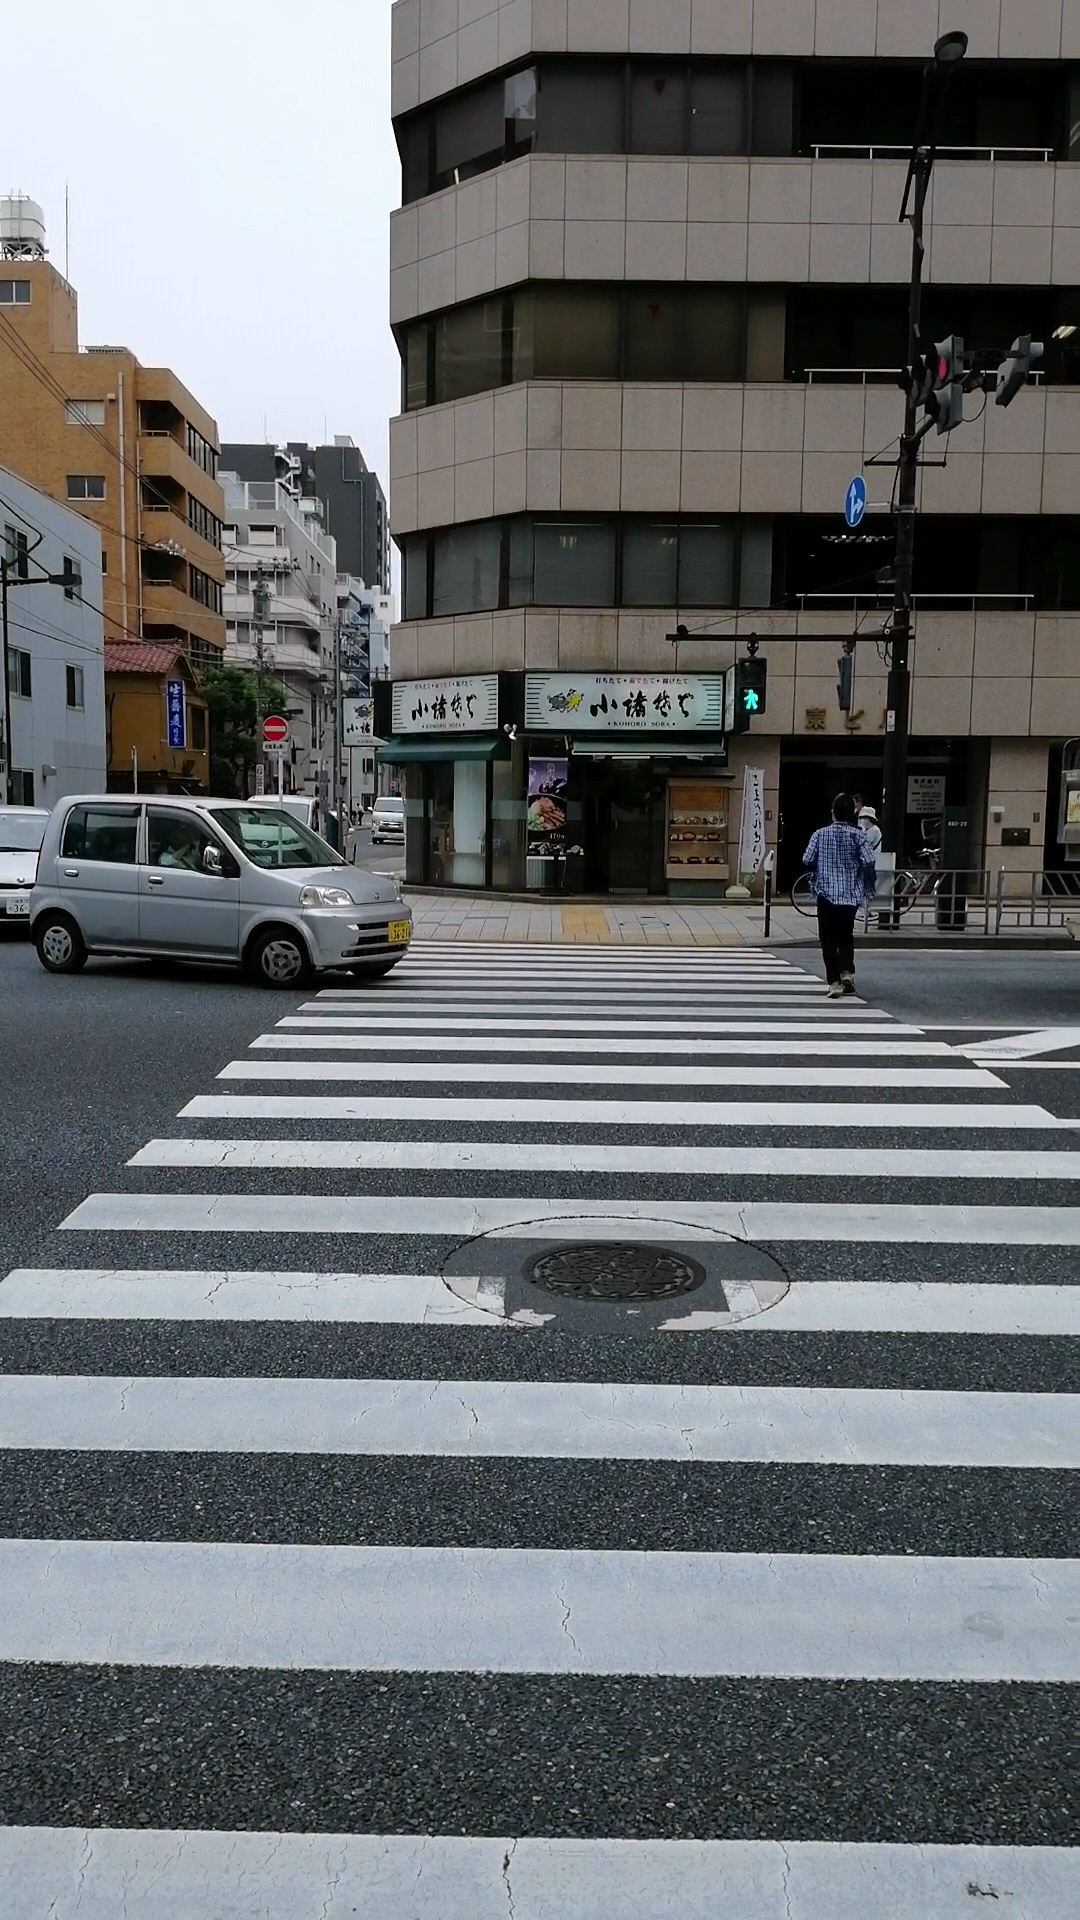green: (735, 657, 766, 713)
